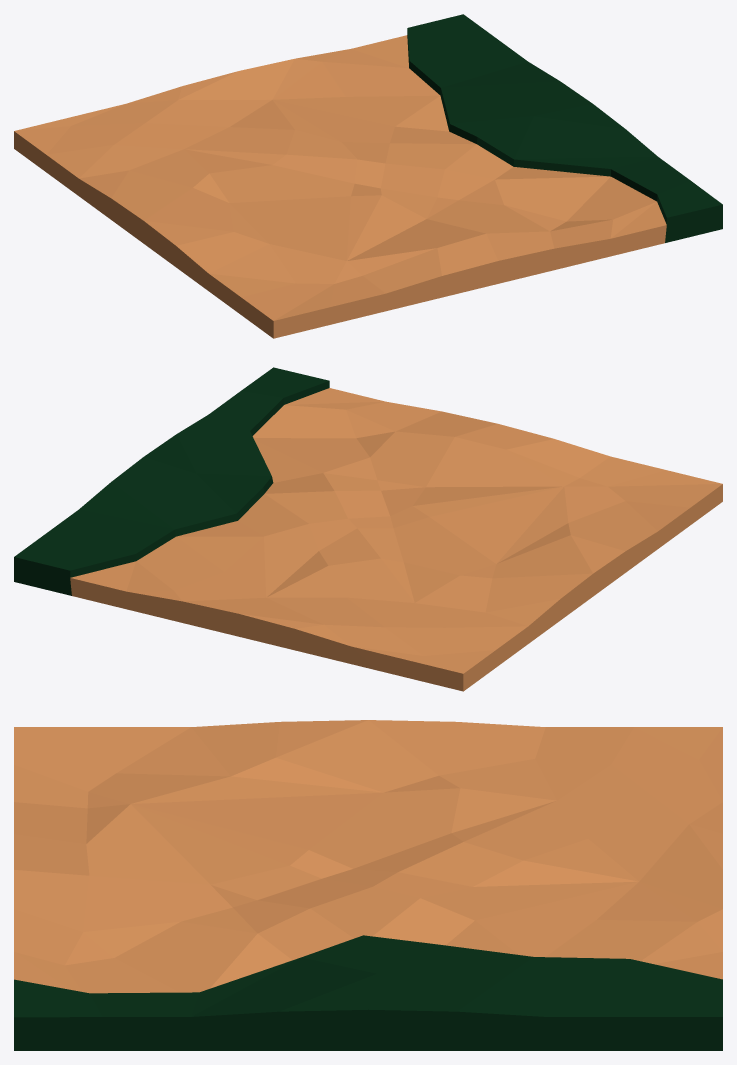
Rendered from Road_green_2.FBX.
3 renders of one model, top to bottom at view 1: azimuth 30°, elevation 25°; view 2: azimuth 150°, elevation 25°; view 3: azimuth 270°, elevation 25°, orthographic. The views are drawn at different scales.
Visible parts, largest first — view 1: Road_green_2; view 2: Road_green_2; view 3: Road_green_2.
Boxes of the visible parts, x1=… form: Road_green_2: x1=14, y1=14, x2=722, y2=338; Road_green_2: x1=14, y1=367, x2=722, y2=691; Road_green_2: x1=14, y1=720, x2=722, y2=1050.
Bounding box in the file's own units: 1.5 × 0.0961 × 1.5.
1 material, 1 textured.
